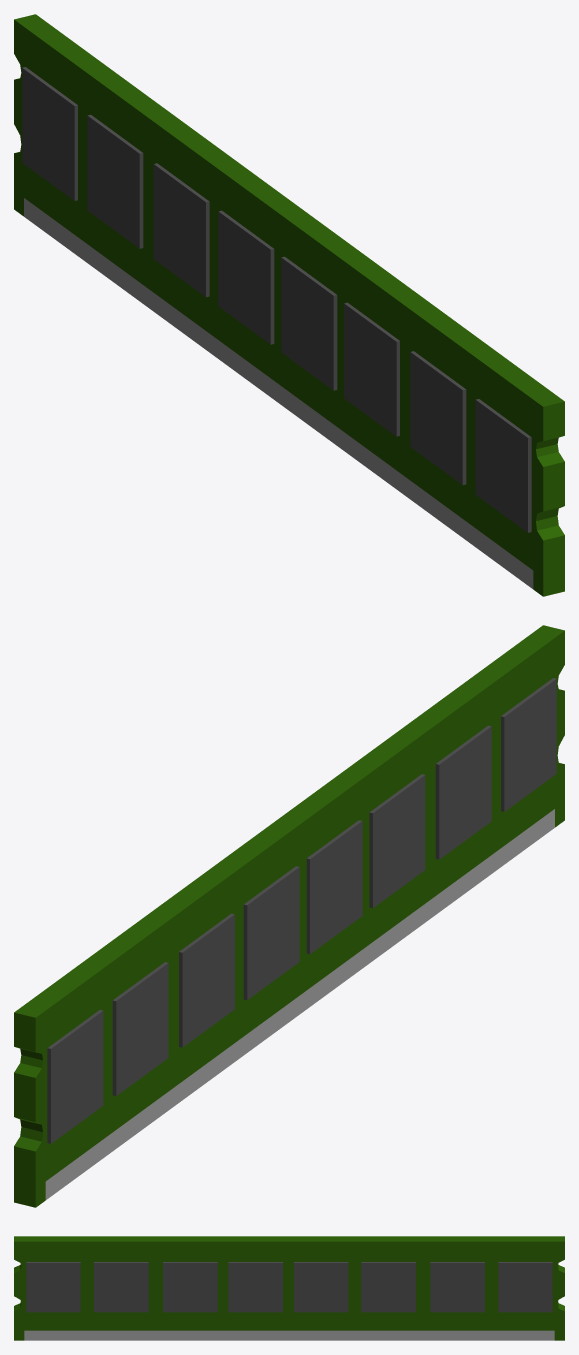
Rendered from GEO_RamRampLONG.fbx.
3 renders of one model, top to bottom at view 1: azimuth 30°, elevation 25°; view 2: azimuth 150°, elevation 25°; view 3: azimuth 270°, elevation 25°, orthographic. The views are drawn at different scales.
Visible parts, largest first — view 1: RamBase, RamStorage; view 2: RamBase, RamStorage; view 3: RamBase, RamStorage.
Part boxes in pixels (x1,y1,x2,y2): RamBase: (14,14,564,596); RamStorage: (22,67,531,532); RamBase: (14,625,564,1207); RamStorage: (47,678,556,1143); RamBase: (14,1236,564,1340); RamStorage: (26,1262,552,1312).
Bounding box in the file's own units: 0.1589 × 1 × 5.05.
